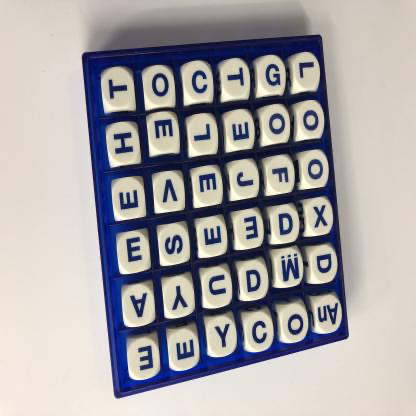a: (124, 289, 153, 325)
an: (315, 296, 342, 332)
c: (244, 313, 275, 353), (186, 62, 213, 104)
d: (241, 260, 270, 300), (271, 208, 298, 245), (311, 247, 338, 282)
e: (112, 179, 146, 219), (149, 115, 180, 155), (119, 234, 150, 274), (129, 341, 161, 379), (197, 218, 228, 257), (169, 332, 200, 369), (193, 167, 223, 205), (226, 109, 255, 147), (236, 212, 264, 251)
f: (266, 157, 294, 192)
g: (256, 56, 288, 92)
h: (107, 124, 140, 167)
j: (231, 160, 261, 201)
l: (189, 114, 220, 152), (292, 53, 319, 89)
m: (277, 250, 303, 285)
o: (143, 67, 175, 110), (301, 151, 329, 190), (281, 306, 310, 343), (297, 103, 327, 138), (262, 106, 291, 142)
s: (159, 225, 189, 265)
t: (104, 69, 136, 114), (222, 58, 252, 98)
u: (203, 268, 233, 310)
v: (154, 172, 184, 210)
x: (305, 198, 334, 233)
y: (164, 277, 195, 318), (209, 317, 237, 356)
